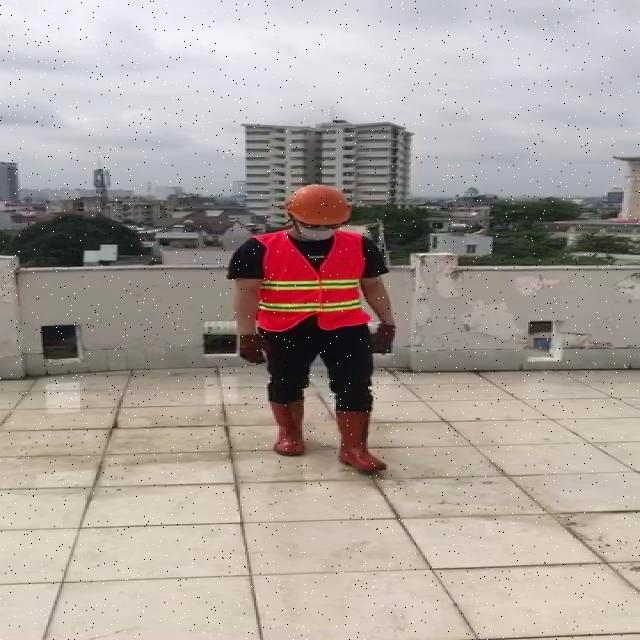Hard_hat: (280, 183, 358, 230)
Person: (219, 179, 402, 485)
Vest: (254, 228, 365, 335)
